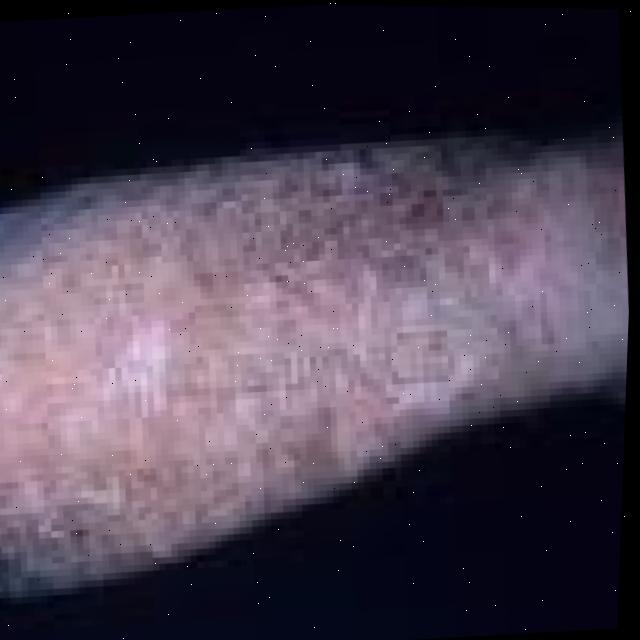Melasma: (234, 140, 538, 434)
